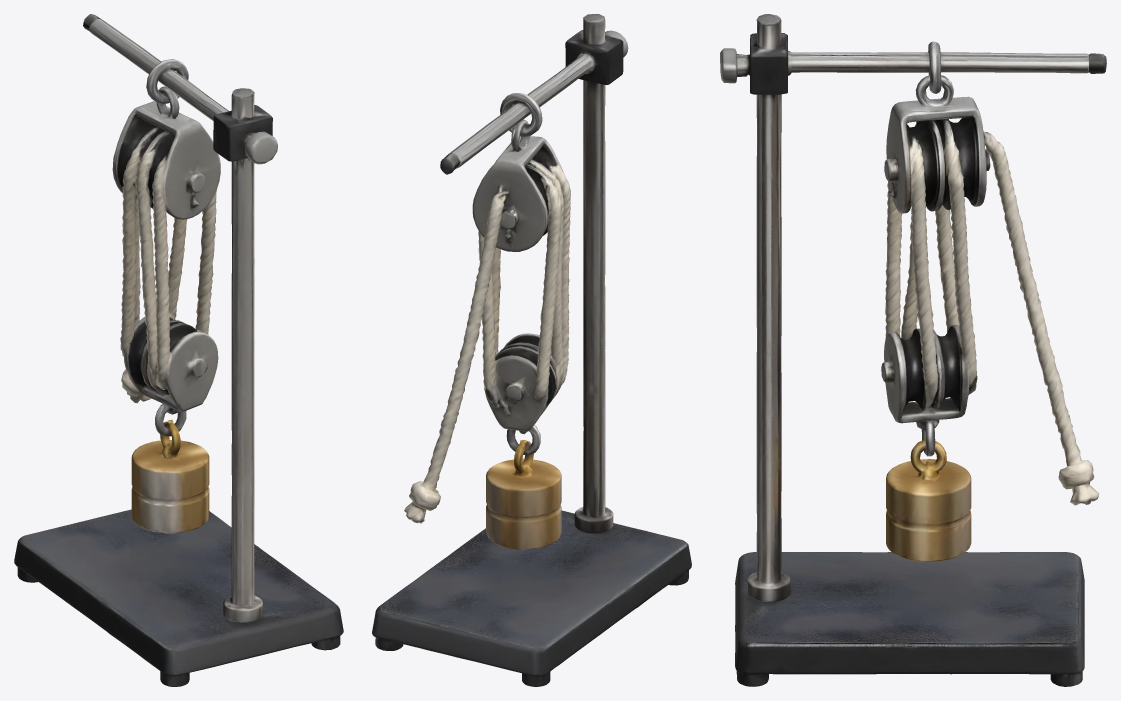
The model's file is block-and-tackle.glb.
The picture shows the model from 3 angles, left to right: view 1: azimuth 30°, elevation 25°; view 2: azimuth 150°, elevation 25°; view 3: azimuth 270°, elevation 25°; orthographic projection. The views are drawn at different scales.
Visible parts, largest first — view 1: block-and-tackle; view 2: block-and-tackle; view 3: block-and-tackle.
Part boxes in pixels (x1,y1,x2,y2): block-and-tackle: (14, 14, 343, 686); block-and-tackle: (372, 14, 691, 686); block-and-tackle: (720, 14, 1106, 686).
Bounding box in the file's own units: 0.2312 × 0.7 × 0.3932.
1 material, 1 textured.
